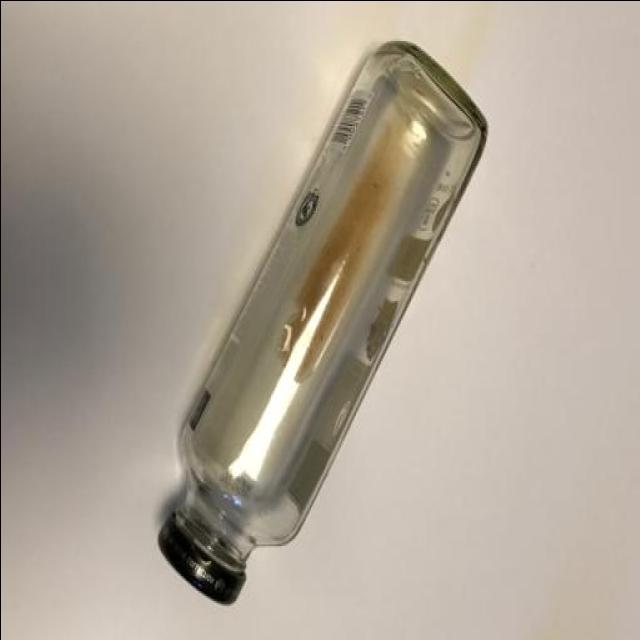glass: (156, 39, 487, 606)
